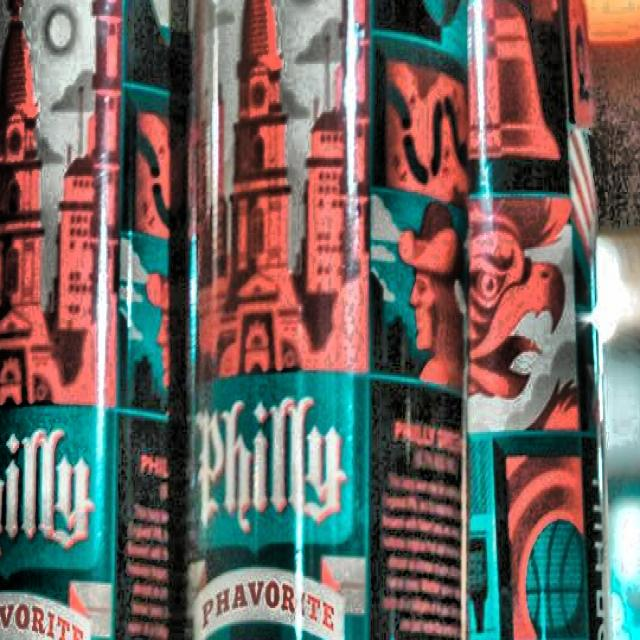metal: (192, 0, 473, 640), (0, 0, 206, 640), (447, 0, 623, 640)
